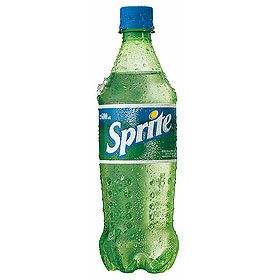Sprite: (91, 2, 183, 276)
